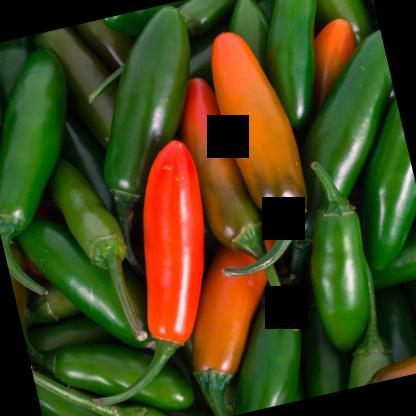chilli: (37, 134, 247, 412), (66, 2, 233, 255), (174, 67, 306, 348), (205, 22, 324, 273), (0, 42, 112, 298), (284, 24, 416, 206), (41, 143, 153, 355), (288, 156, 386, 354), (25, 306, 194, 415), (336, 95, 415, 269), (245, 0, 343, 129), (214, 290, 313, 414)
